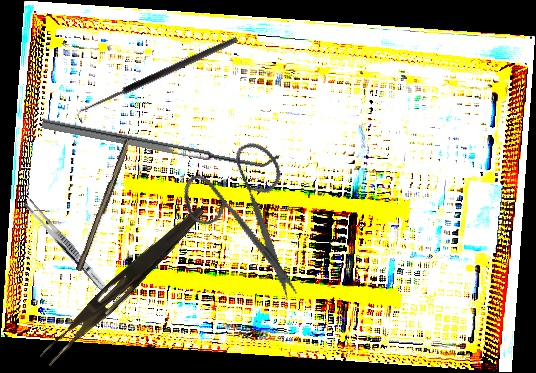Dressing Forceps: (38, 198, 208, 372), (20, 196, 112, 296)
Hook Surgical: (74, 35, 243, 125)
Iris Scissors: (159, 123, 348, 305)
Scalpel Handle: (75, 137, 134, 273)
Spatula Surgical: (41, 109, 280, 174)
